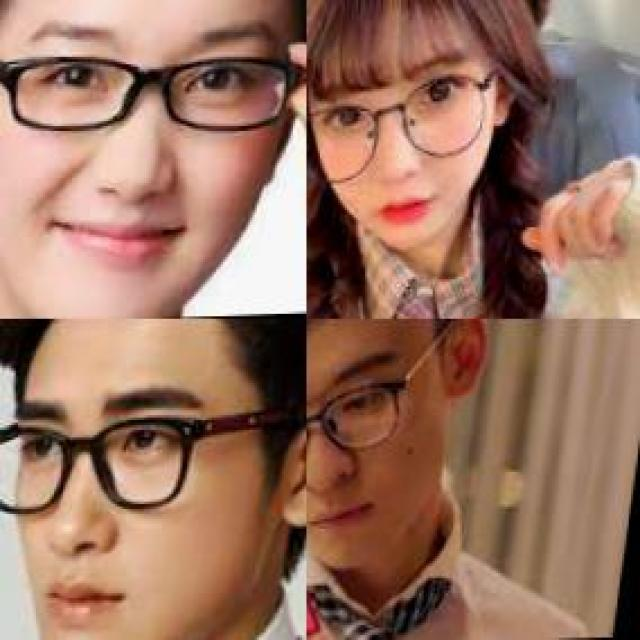glasses: (0, 383, 286, 529), (0, 44, 304, 148), (306, 61, 532, 187), (307, 319, 464, 458)
